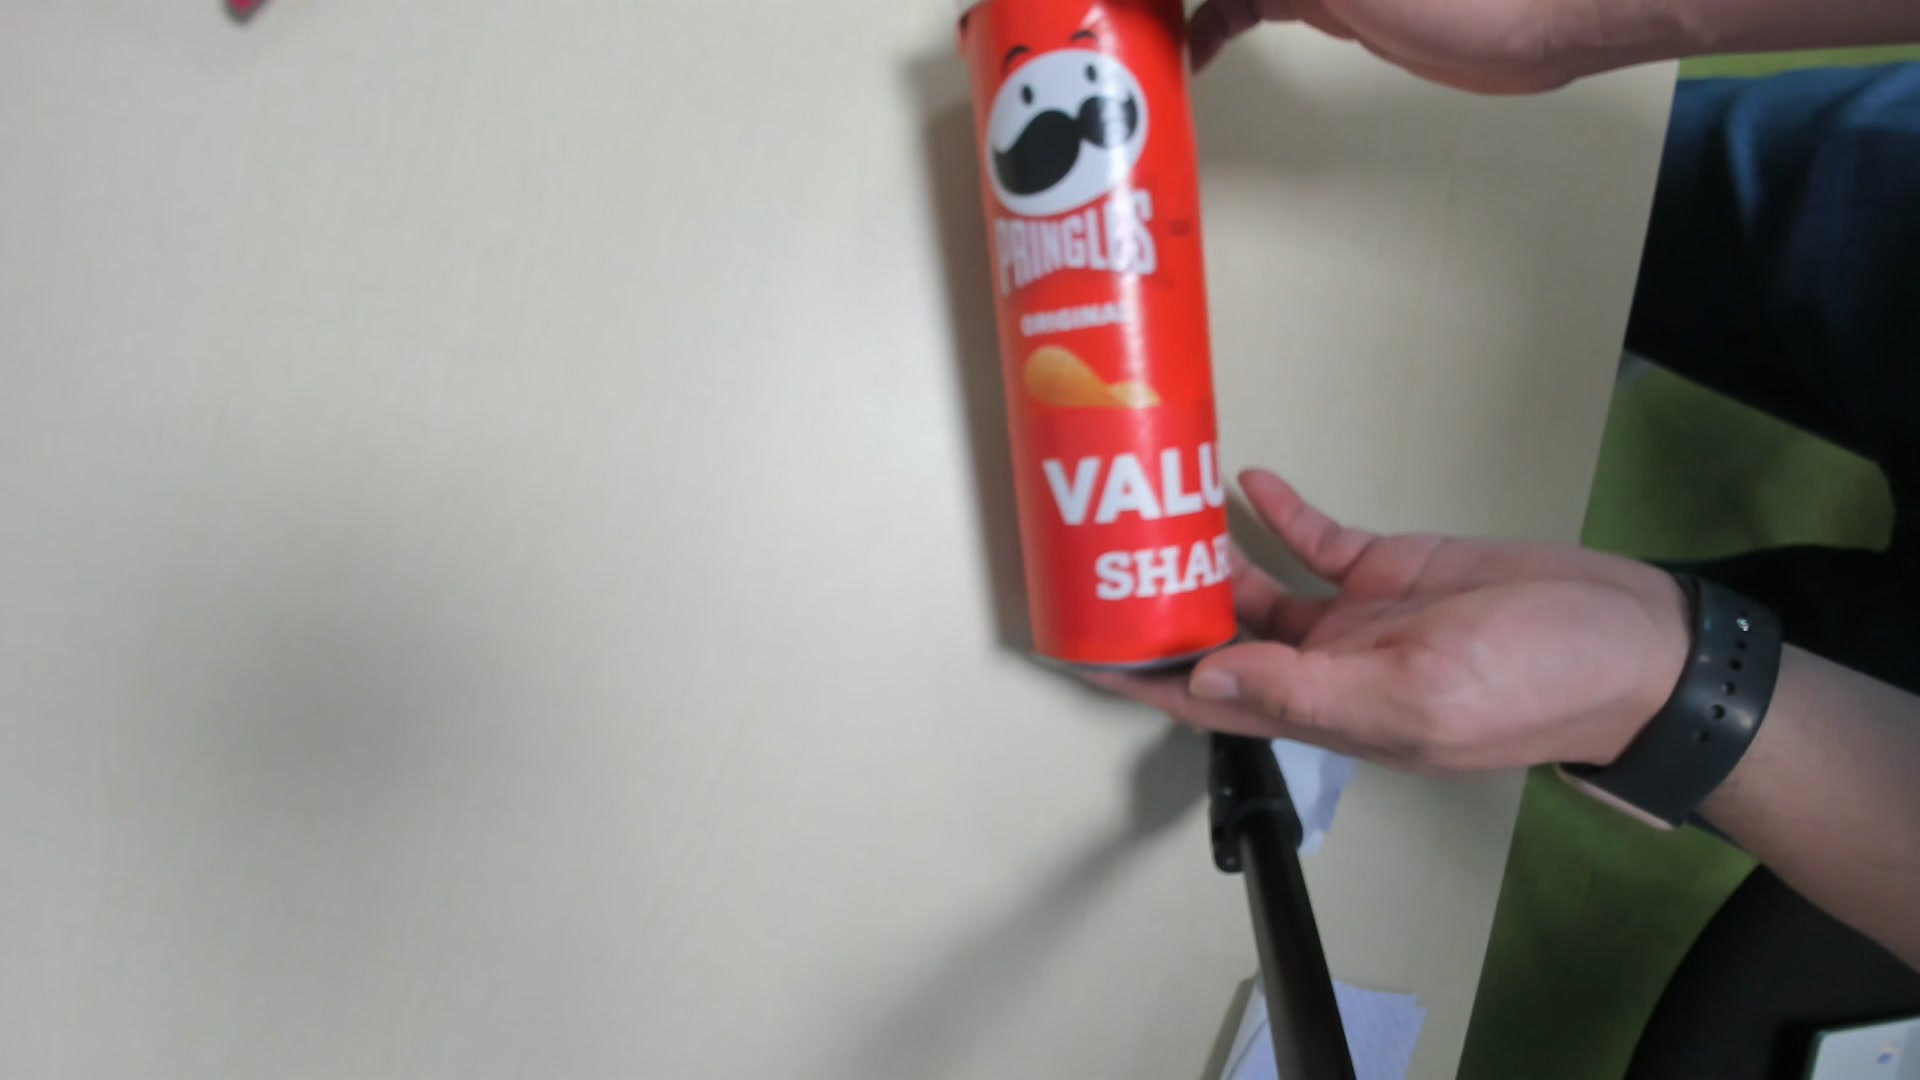PotatoChipsKeropok_100-199g_NonHalal_NonHealthy: (964, 11, 1241, 670)
